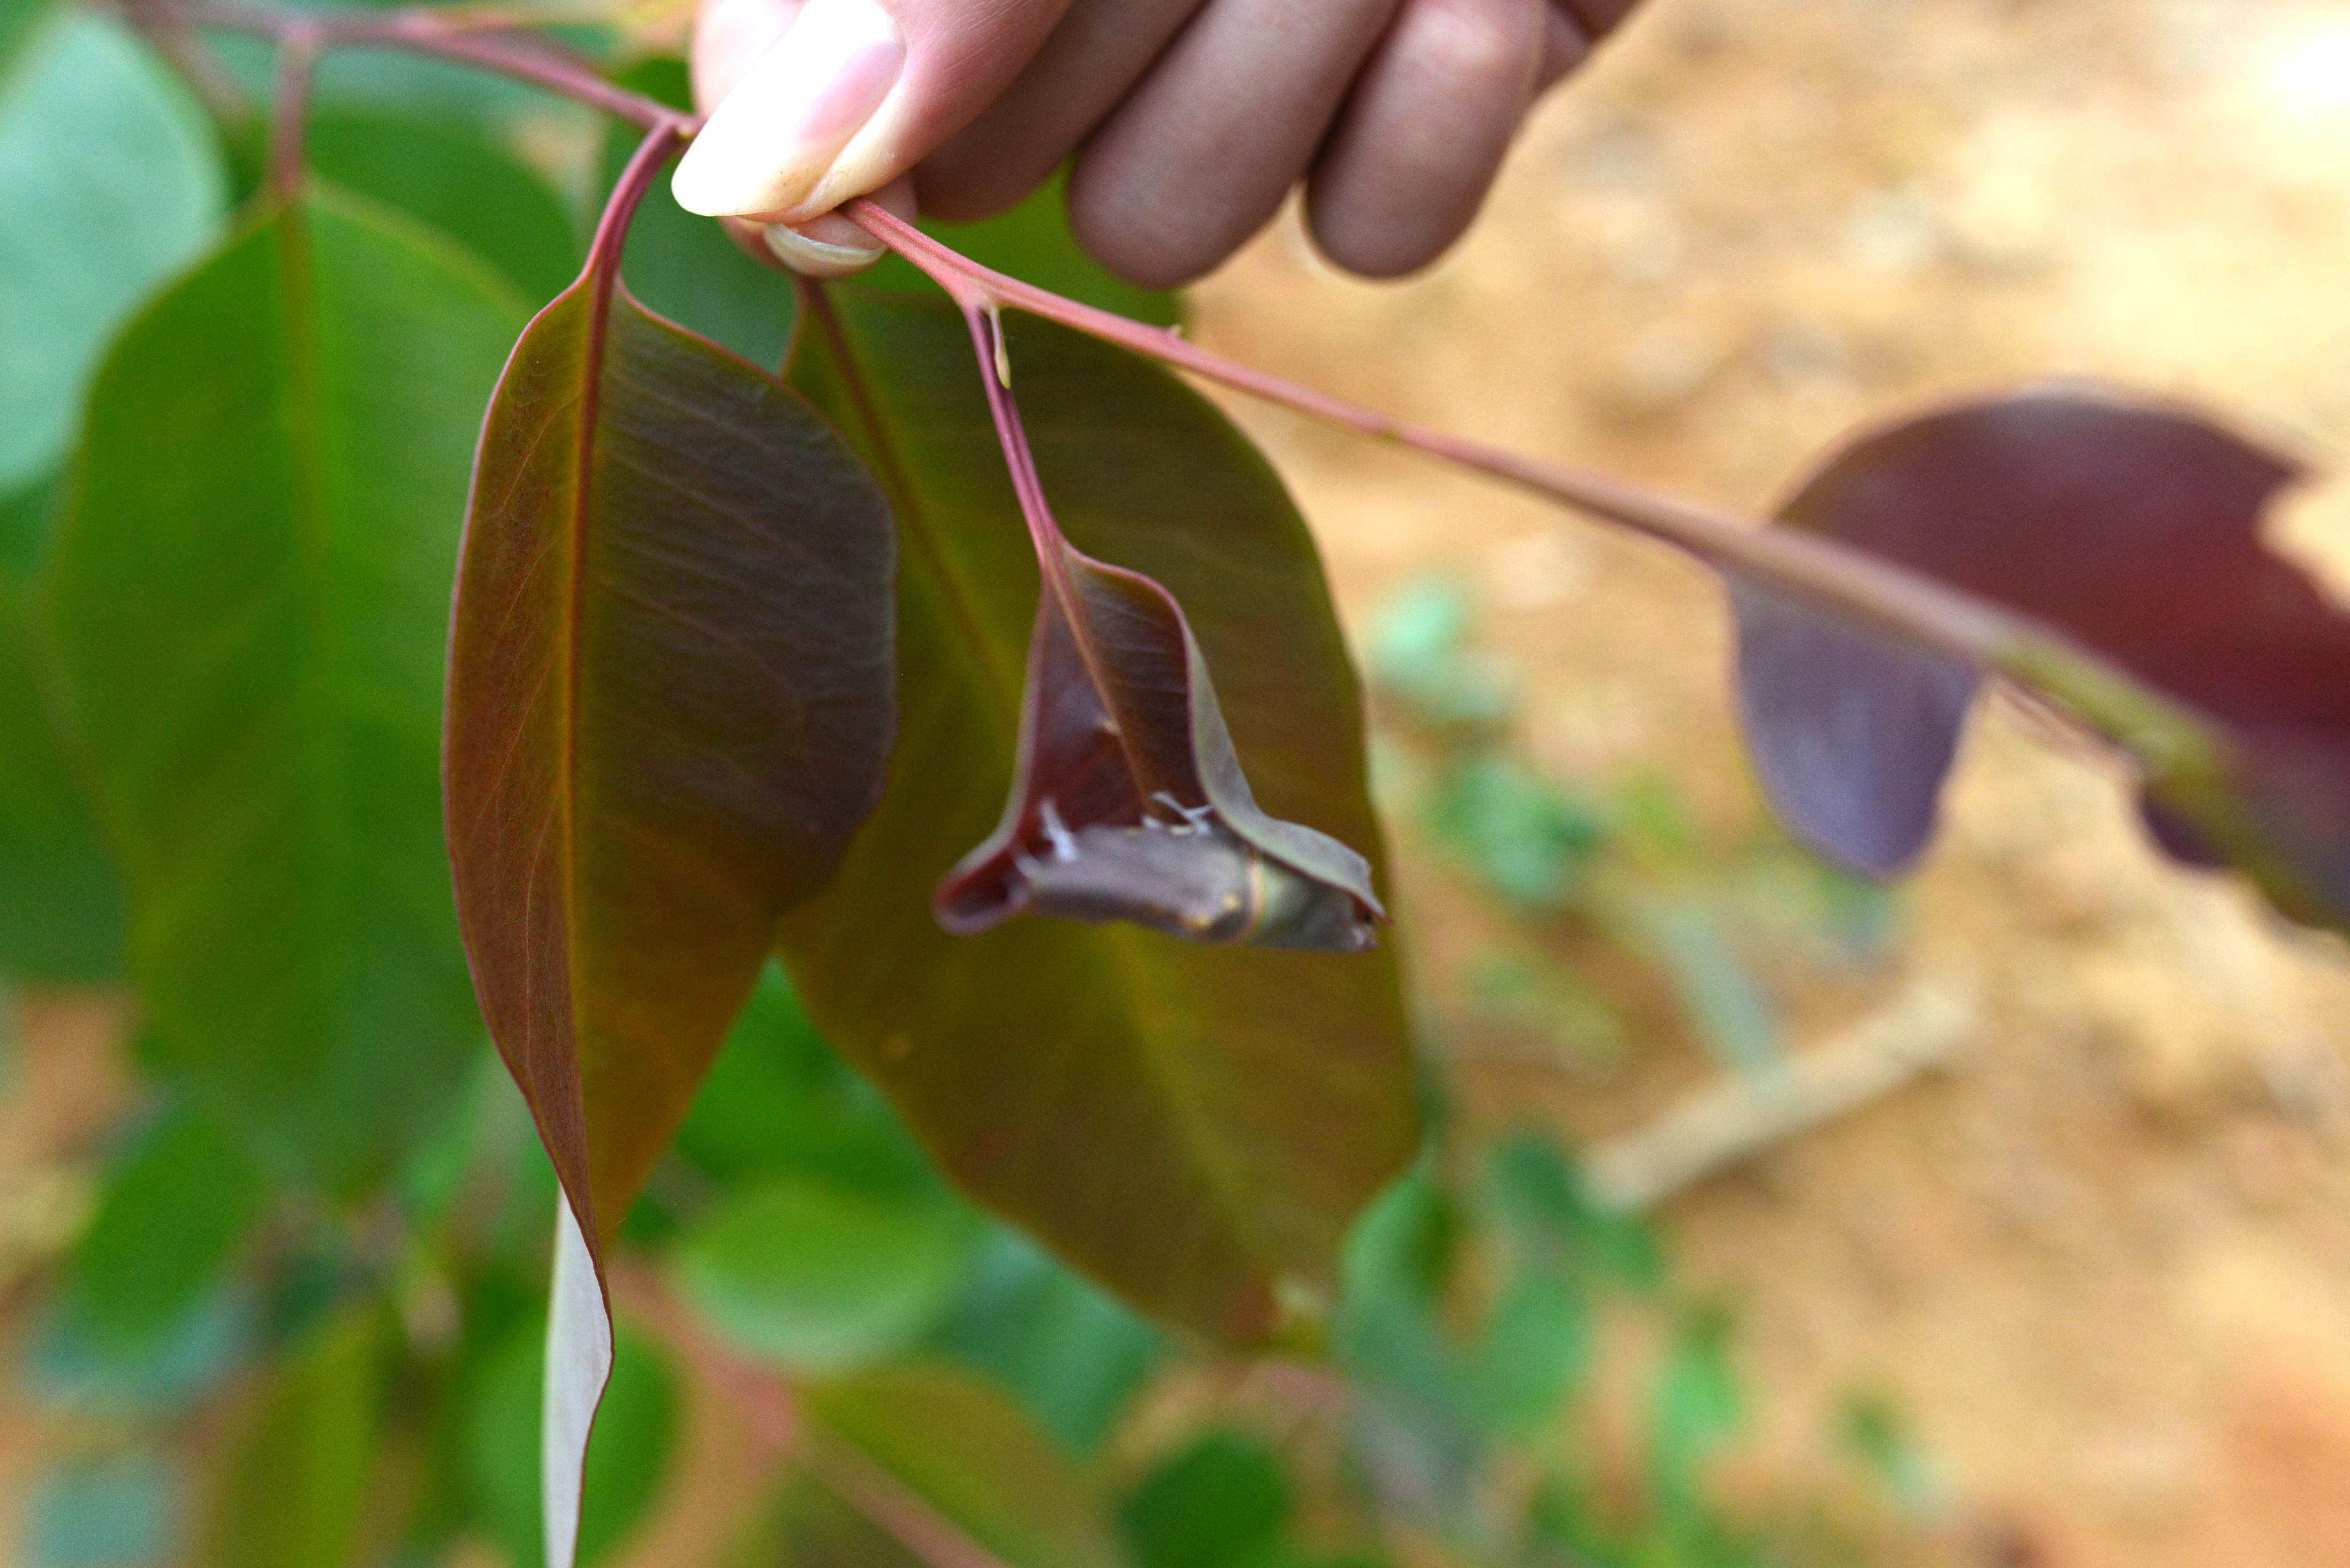Leaf Roller - Leaf: (1731, 387, 2350, 965), (952, 479, 1391, 1009)
